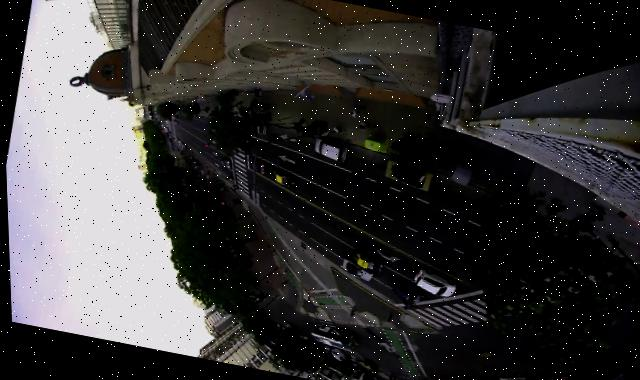bus: (305, 322, 358, 351)
car: (380, 157, 433, 190), (408, 265, 455, 297), (310, 134, 347, 162), (386, 278, 424, 302), (348, 246, 383, 272), (337, 255, 373, 280), (268, 166, 291, 186), (494, 367, 523, 380), (246, 156, 266, 173), (549, 369, 573, 380), (328, 346, 344, 360), (359, 358, 375, 370), (217, 155, 231, 167), (254, 124, 265, 134), (280, 320, 289, 327), (320, 344, 327, 352), (179, 142, 186, 149), (177, 140, 182, 146), (172, 119, 177, 124), (175, 138, 179, 142), (173, 136, 177, 140), (172, 114, 176, 118), (170, 118, 174, 122), (169, 112, 173, 116), (173, 138, 175, 140)
